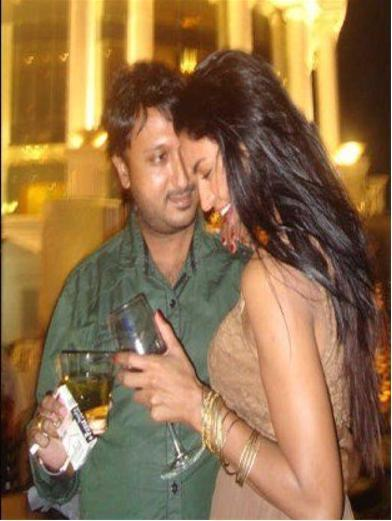Drunk: (125, 106, 200, 229)
